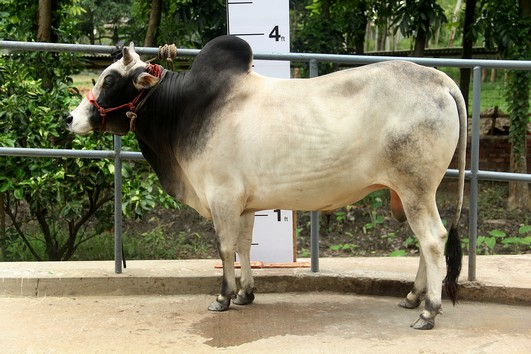cow: (65, 36, 469, 331)
